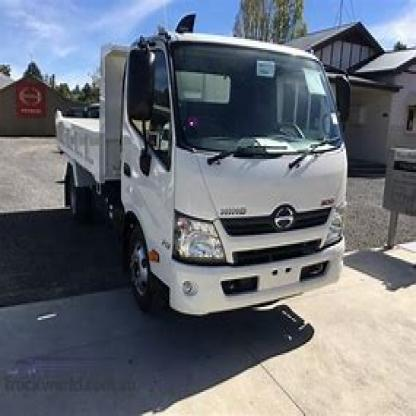dump_truck: (50, 20, 354, 331)
